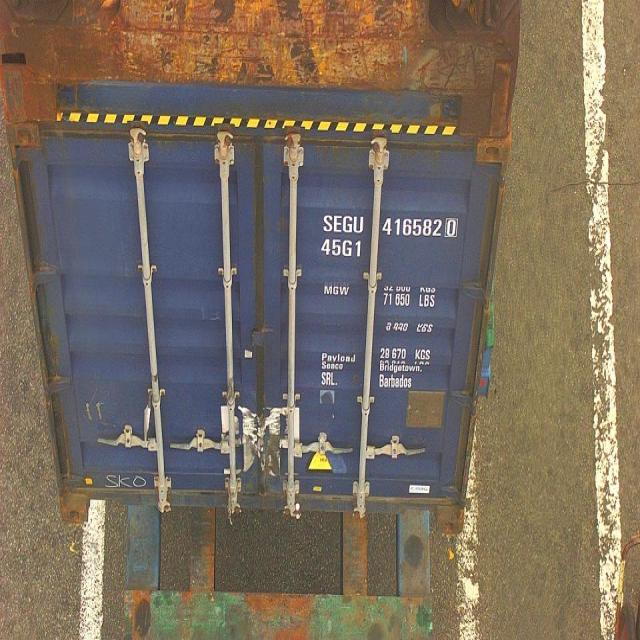ISO: (320, 238, 363, 260)
container_number: (322, 208, 459, 238)
